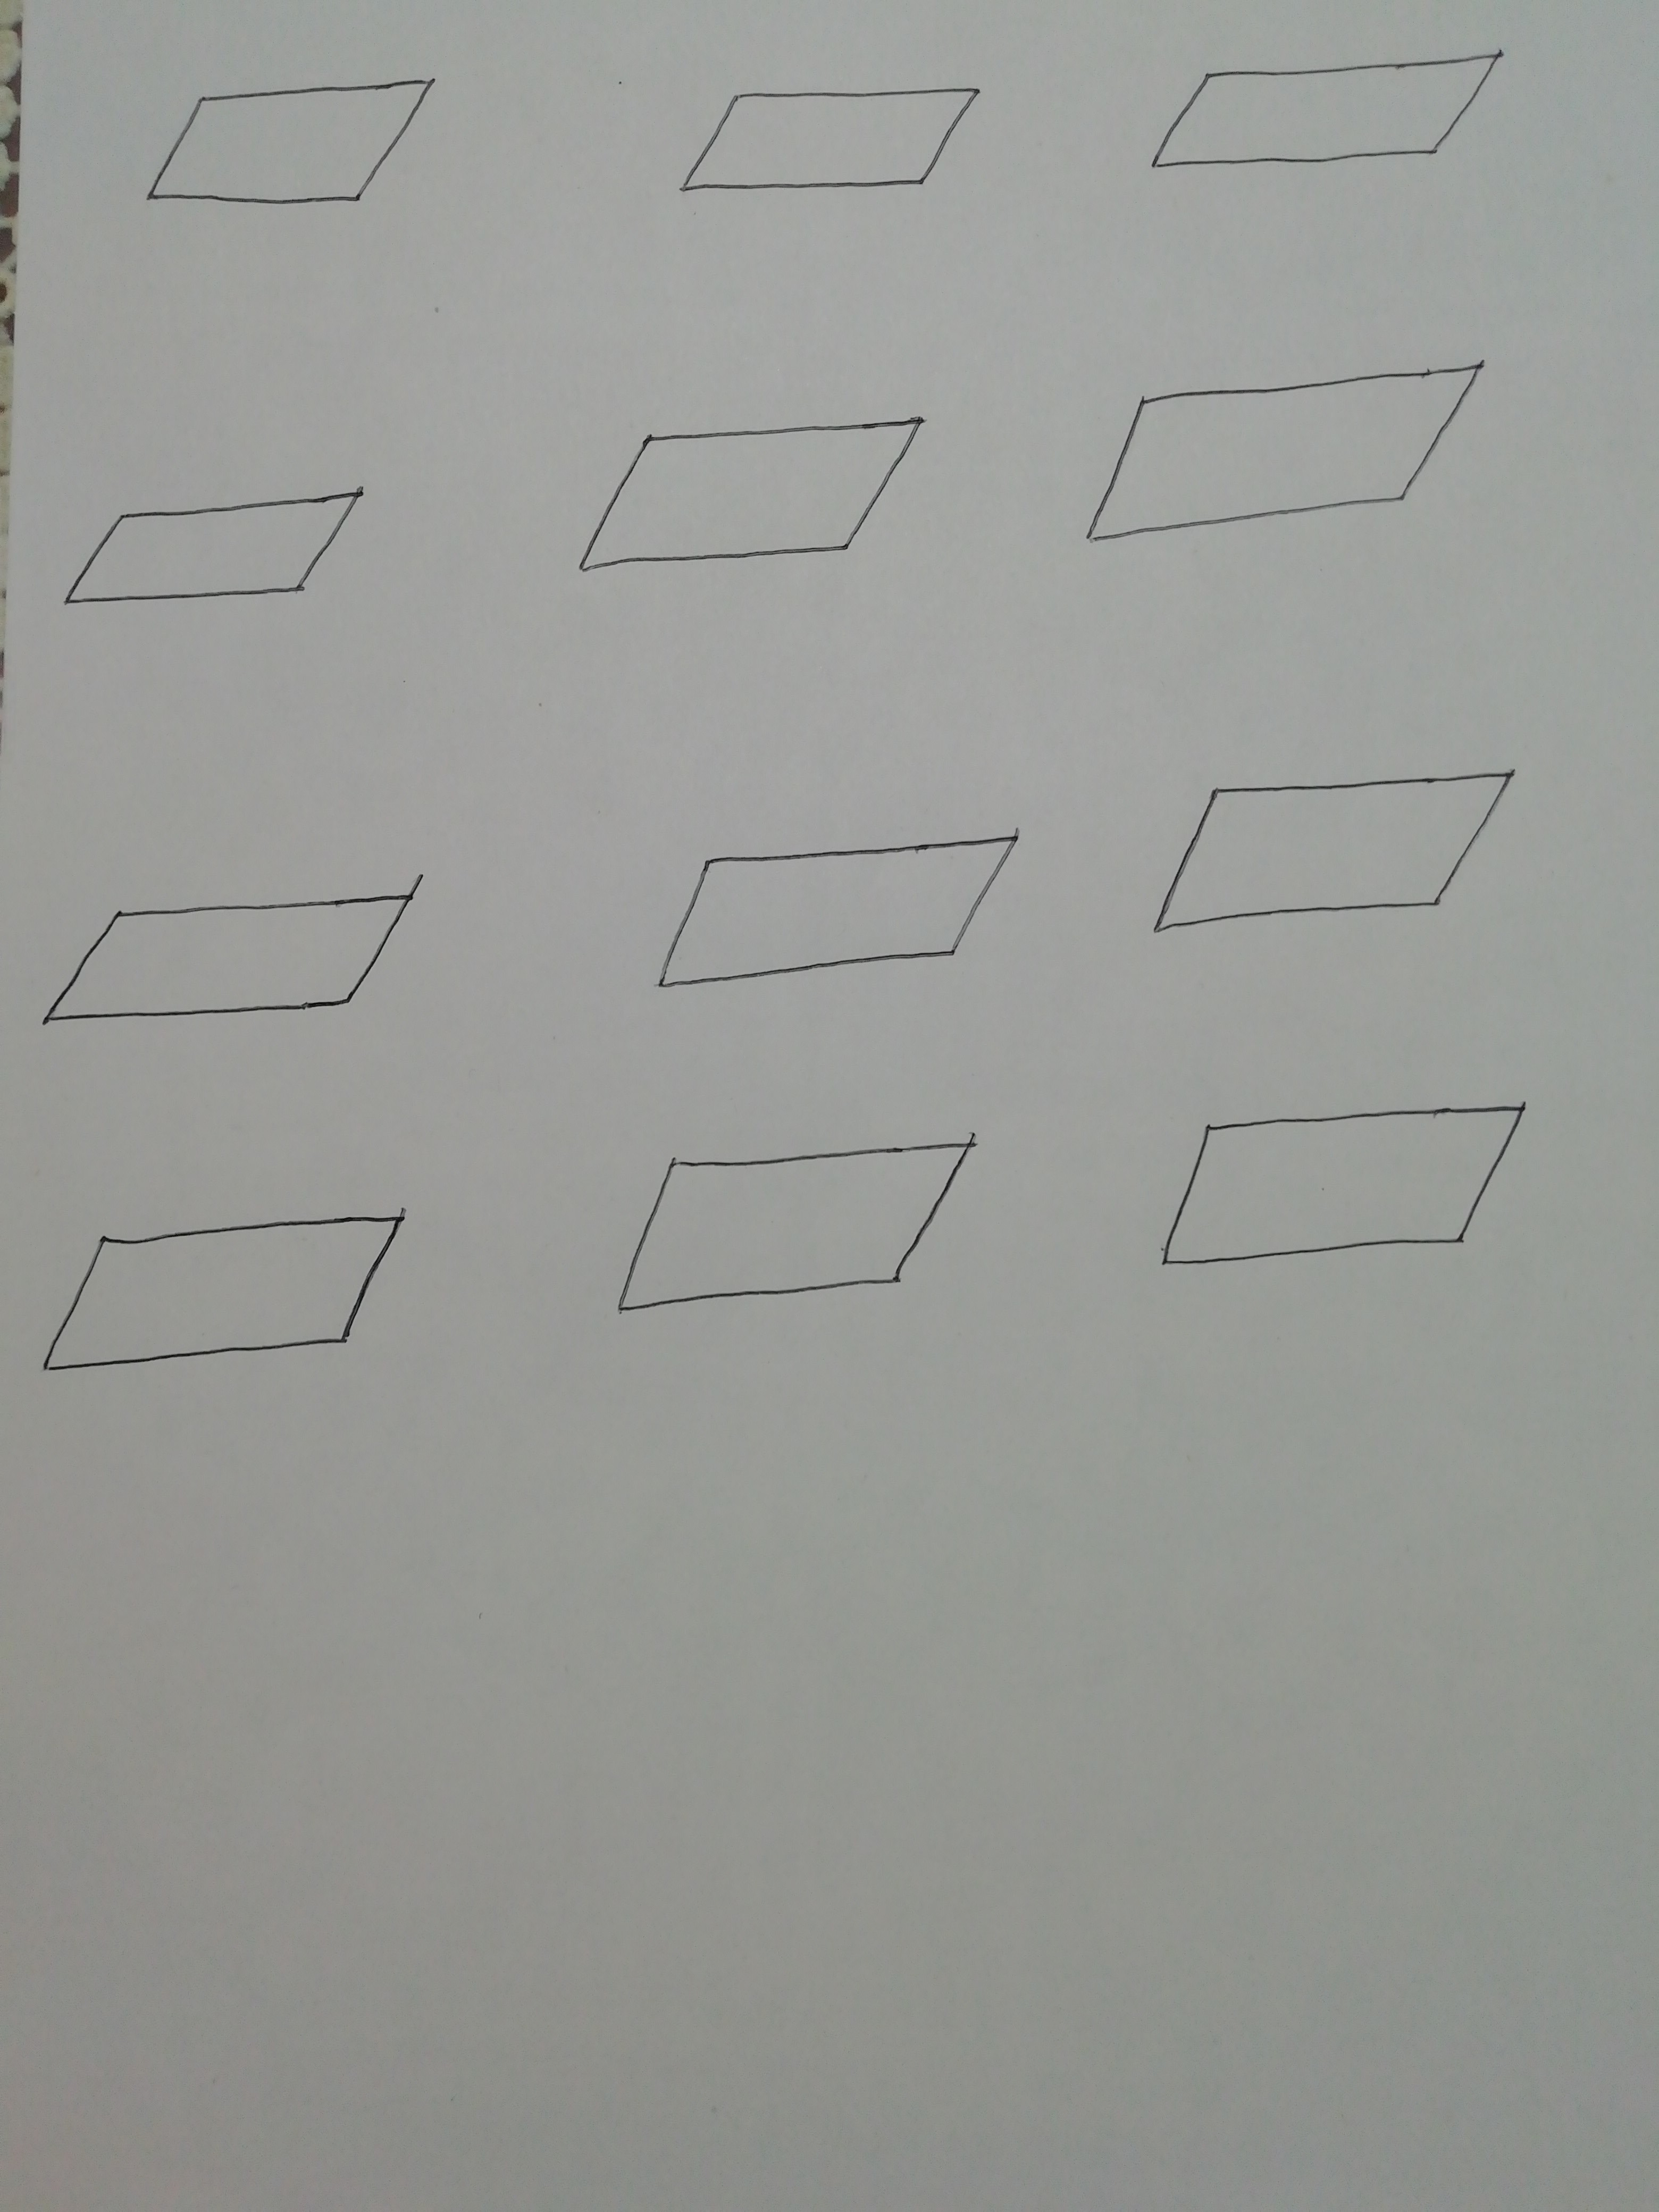scan: (1044, 333, 1527, 571), (575, 791, 1051, 1024), (1108, 751, 1568, 979), (554, 1113, 1016, 1336), (2, 1188, 451, 1414), (540, 390, 986, 610), (5, 850, 476, 1055), (1126, 1078, 1561, 1298), (1093, 21, 1565, 199), (626, 38, 1019, 244), (94, 49, 486, 247), (23, 470, 406, 637)
